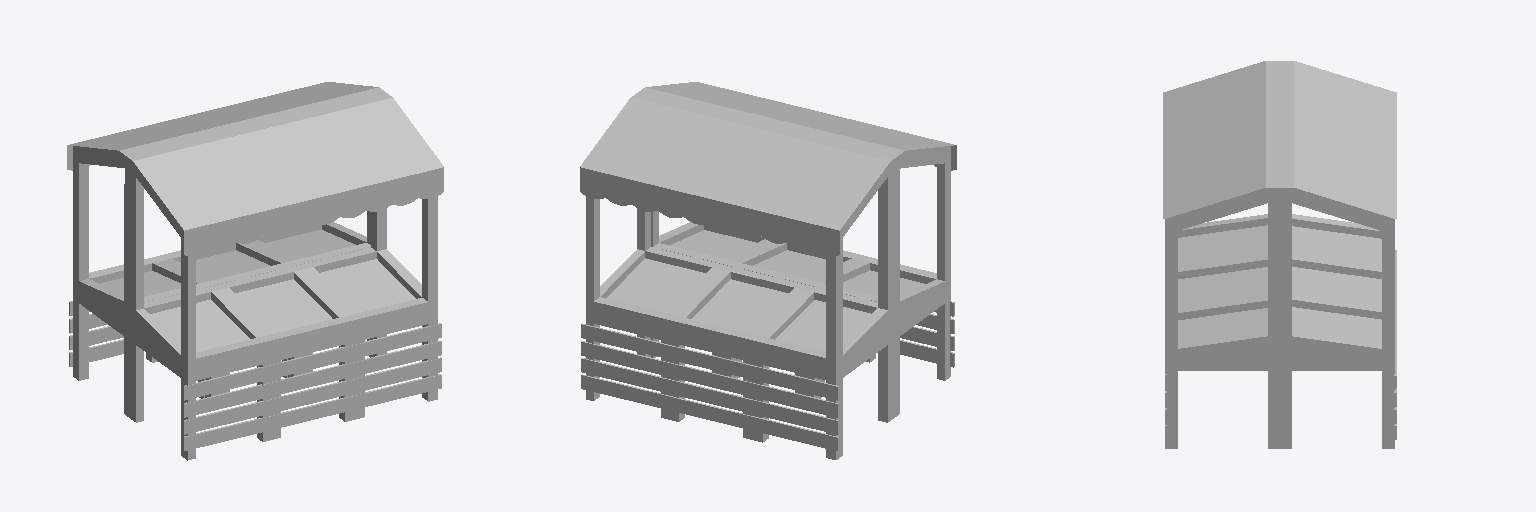
The model's file is PatisserieTable.obj.
The picture shows the model from 3 angles: view 1: azimuth 30°, elevation 25°; view 2: azimuth 150°, elevation 25°; view 3: azimuth 270°, elevation 25°; orthographic projection.
Parts seen in each view (by area): view 1: Patisserie_Table; view 2: Patisserie_Table; view 3: Patisserie_Table.
Boxes of the visible parts, <box> form: Patisserie_Table: <box>67,82,443,460</box>; Patisserie_Table: <box>580,82,956,459</box>; Patisserie_Table: <box>1163,61,1396,448</box>.
Bounding box in the file's own units: 2.42 × 2.34 × 1.88.